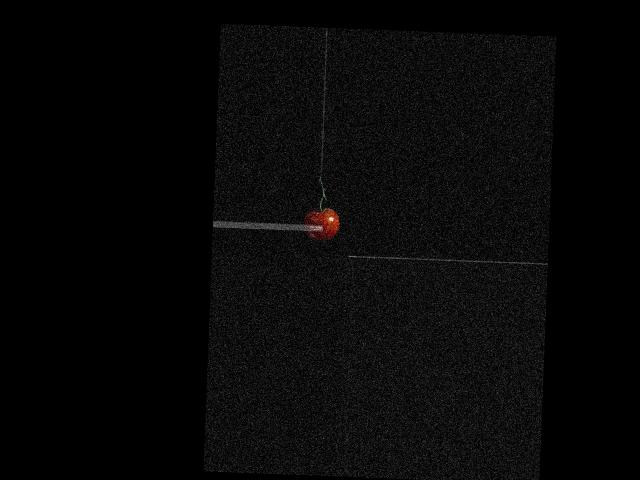tomato: (303, 208, 339, 239)
